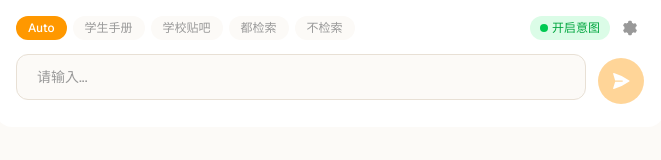
it: ChatInput › button is enabled when input has text
The width and height of the screenshot is (661, 160).
Type "Hello" into the text box with placeholder "请输入..." at (301,77), box [16,54,586,100]
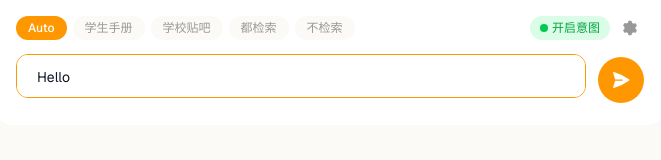
Result: the button named "send" is enabled at [598,56,644,102]
